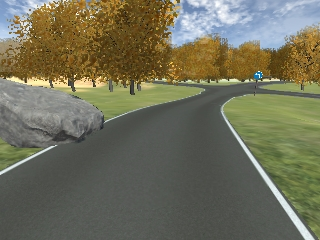left: (254, 72, 262, 79)
